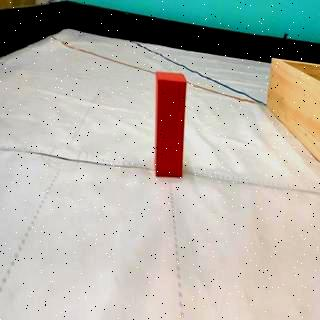redbox: (152, 70, 188, 177)
